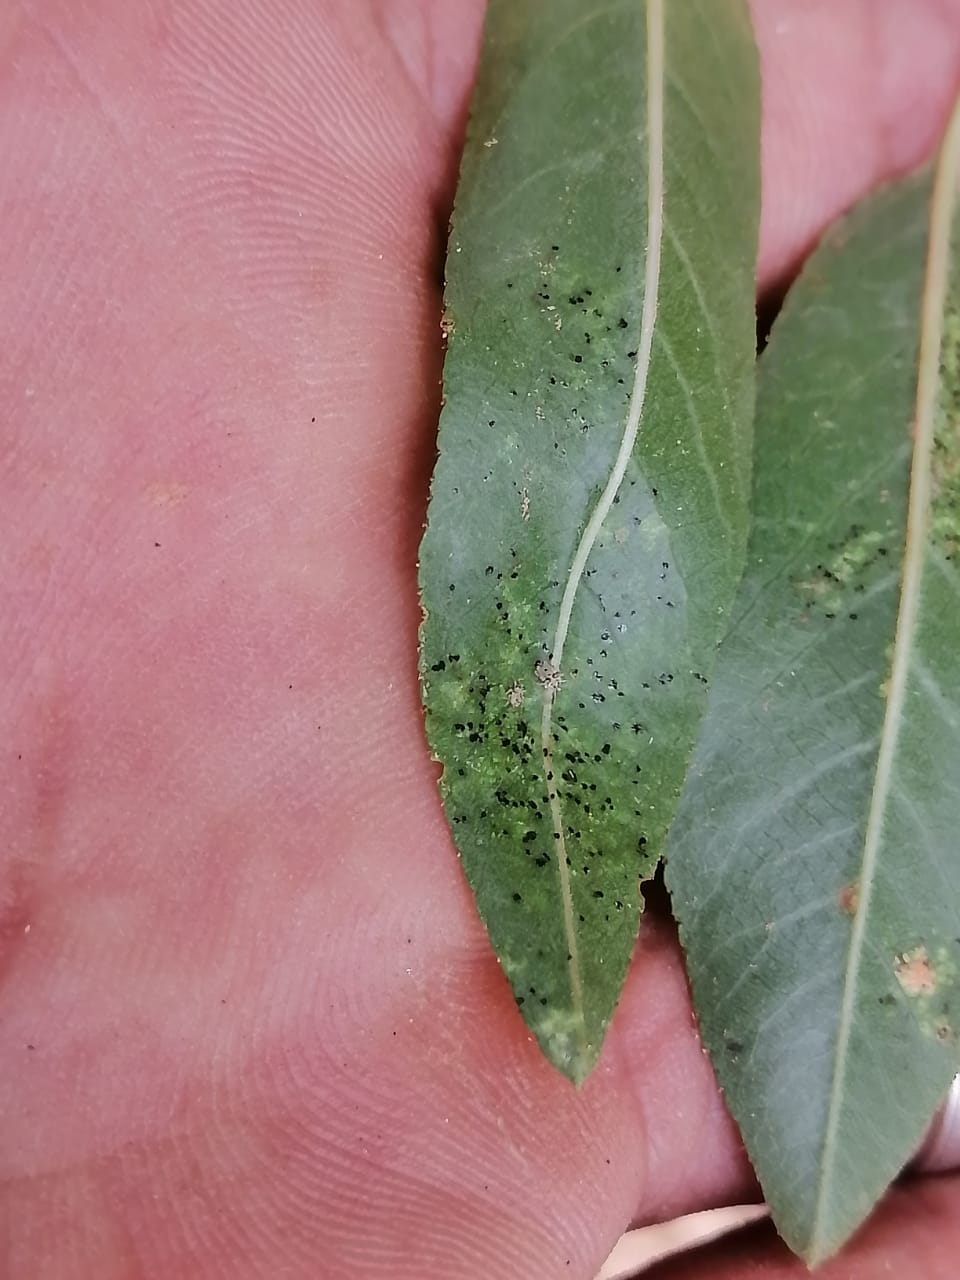faux tigre: (417, 1, 752, 1087)
